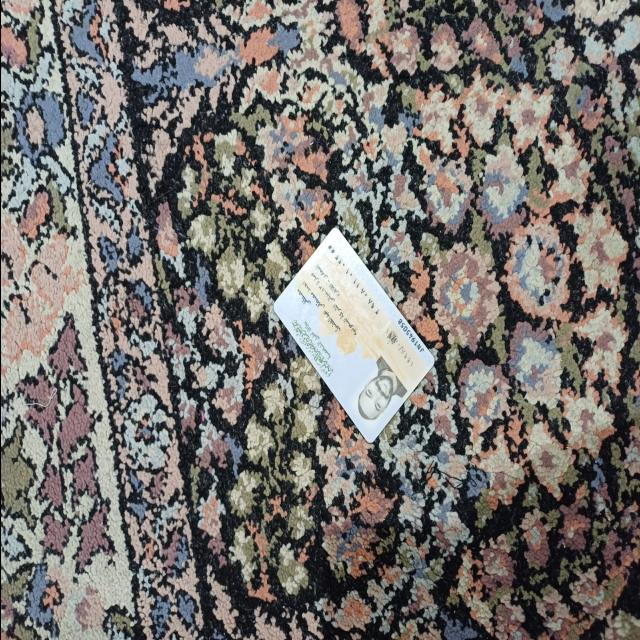id_card: (265, 216, 442, 448)
